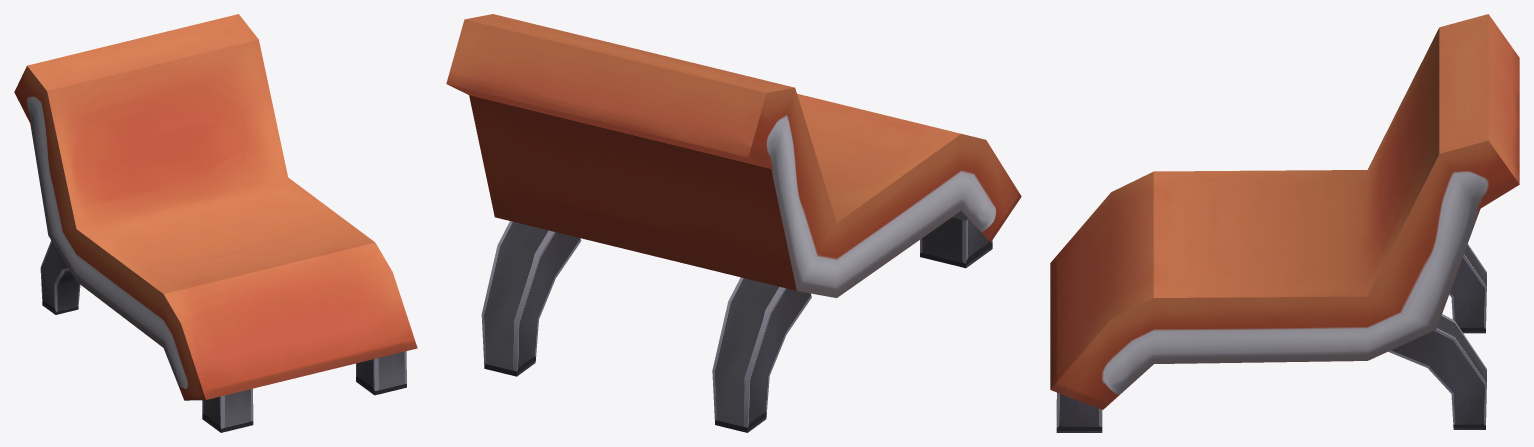
File: sofa3.fbx
The picture shows the model from 3 angles, left to right: view 1: azimuth 30°, elevation 25°; view 2: azimuth 150°, elevation 25°; view 3: azimuth 270°, elevation 25°; orthographic projection. The views are drawn at different scales.
Parts seen in each view (by area): view 1: sofa3; view 2: sofa3; view 3: sofa3.
Boxes of the visible parts, <box> form: sofa3: <box>14,14,417,432</box>; sofa3: <box>446,14,1021,432</box>; sofa3: <box>1050,14,1519,432</box>.
Bounding box in the file's own units: 5.26 × 5.76 × 8.24.
